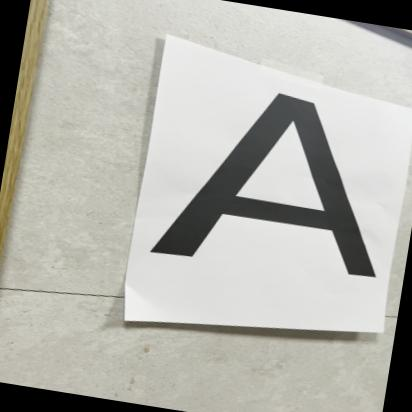seat: (141, 65, 412, 300)
